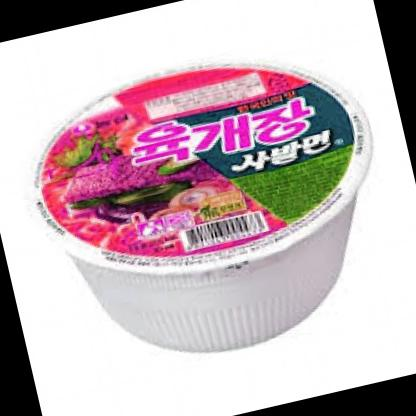Ramen: (12, 25, 416, 395)
